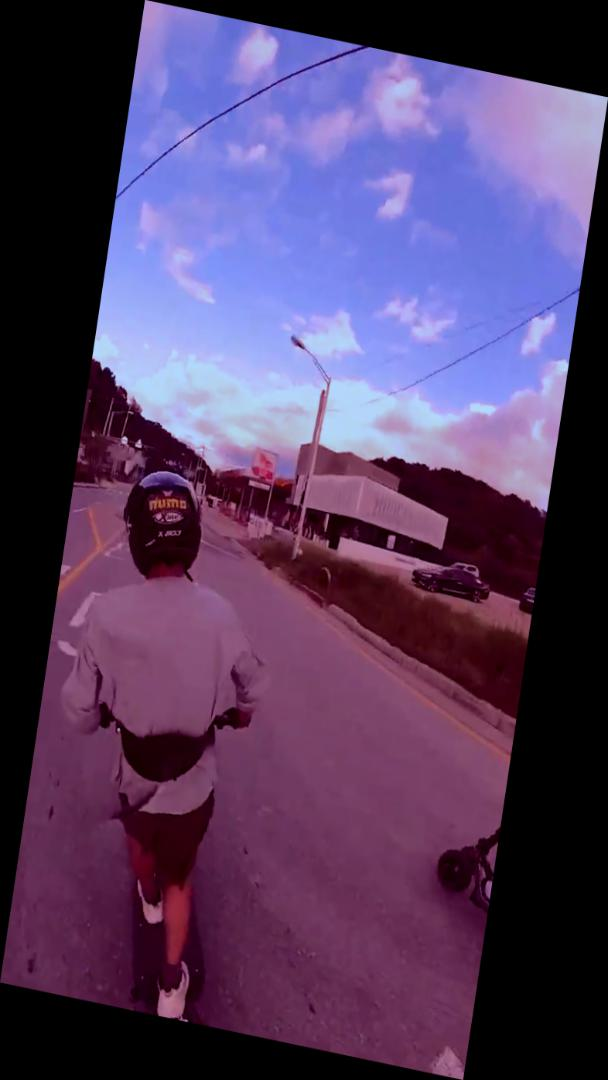helmet: (15, 451, 297, 1029)
